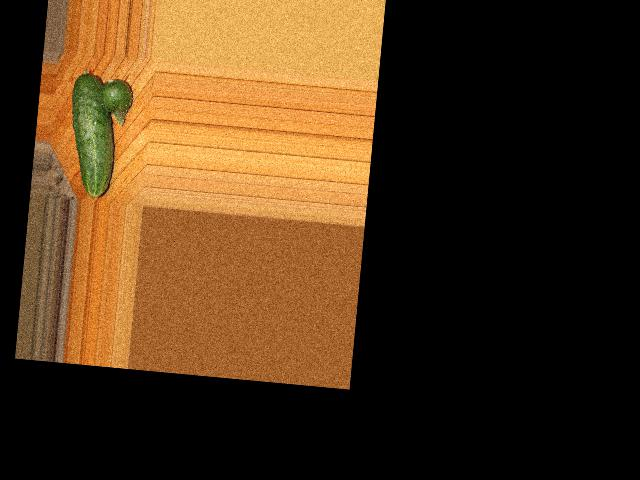cucumber: (63, 71, 121, 199)
